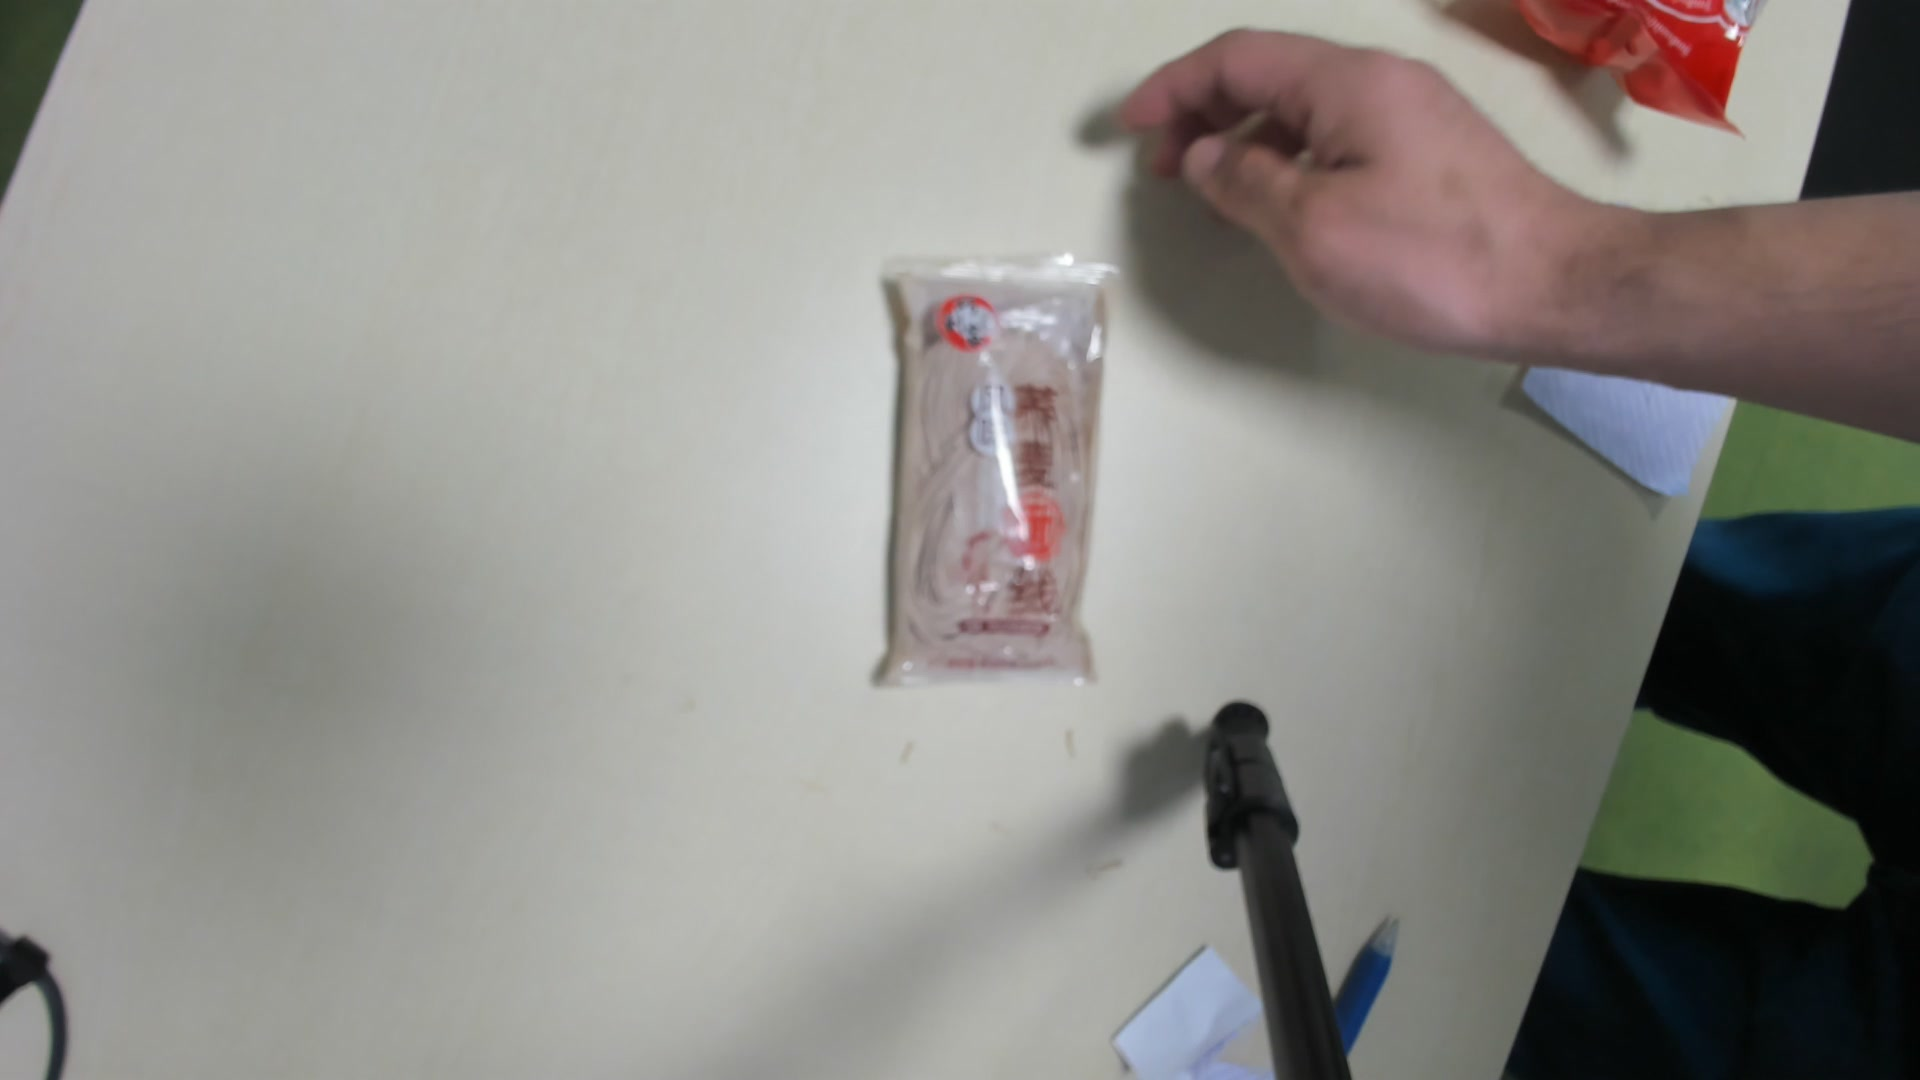BeeHoonVermicelli_0-99g_NonHalal_NonHealthy: (887, 258, 1097, 675)
